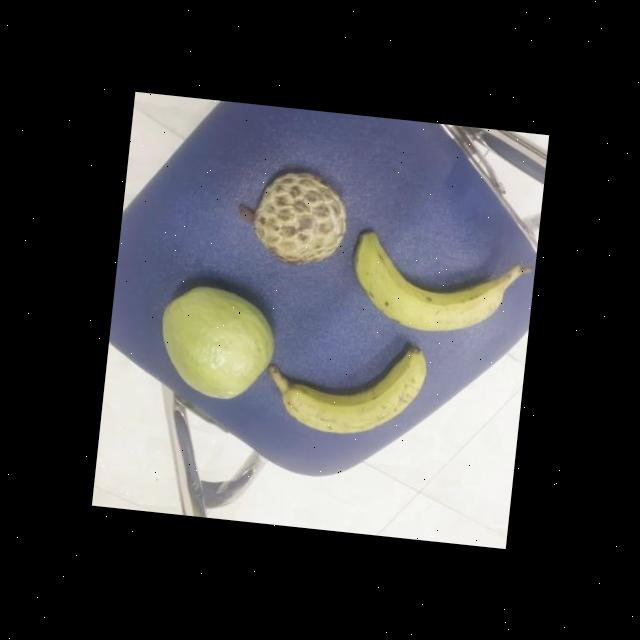Sakya fruit: (236, 164, 350, 270)
banana: (258, 328, 426, 439), (345, 230, 514, 338)
guava: (150, 278, 278, 397)
